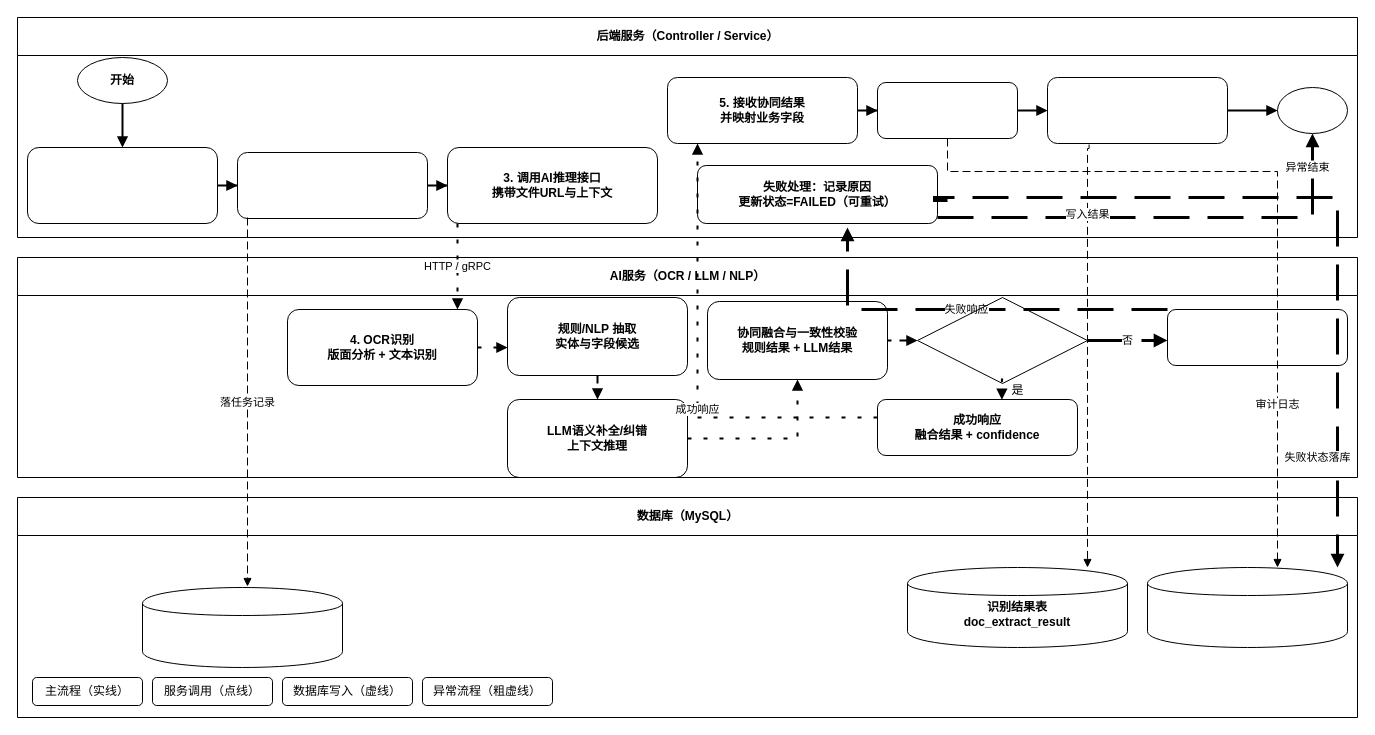
The diagram is 1375 pixels wide and 735 high, and some of its shapes have lost their labels. The centre of each missing label's shape, as x and y in pixels:
"1. 接收处理请求 校验参数与权限" belongs at point 122,185.
"2. 创建任务 状态=PROCESSING" belongs at point 332,185.
"6. 事务写库" belongs at point 947,110.
"7. 更新状态=SUCCESS 返回处理结果" belongs at point 1137,110.
"任务表 process_task" belongs at point 242,627.
"协同结果可用？" belongs at point 1002,340.
"失败响应 / 转人工 errorCode + message" belongs at point 1257,337.
"审计日志表 audit_log" belongs at point 1247,607.
"结束" belongs at point 1312,110.
